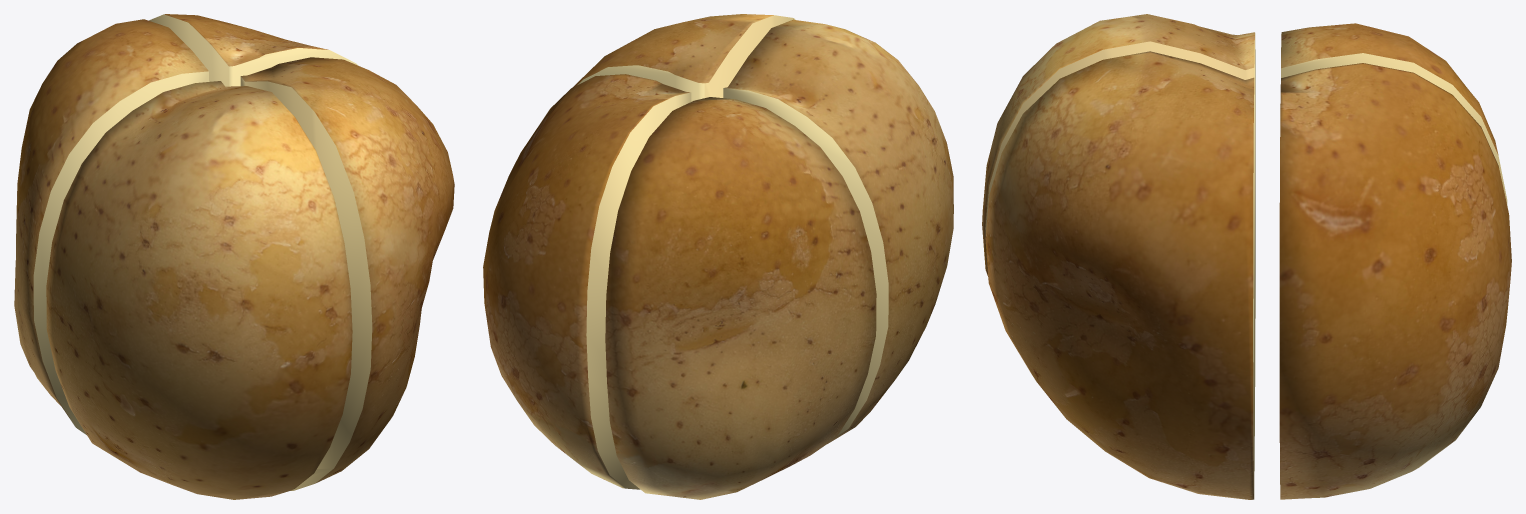
The model's file is potatoCut02.fbx.
The picture shows the model from 3 angles, left to right: view 1: azimuth 30°, elevation 25°; view 2: azimuth 150°, elevation 25°; view 3: azimuth 270°, elevation 25°; orthographic projection. The views are drawn at different scales.
Parts seen in each view (by area): view 1: potato.002, potato.001, potato.003, potato; view 2: potato.003, potato, potato.002, potato.001; view 3: potato.001, potato, potato.002, potato.003.
Boxes of the visible parts, x1,y1,x2,y2 form: potato.002: (46, 81, 352, 499); potato.001: (240, 57, 454, 490); potato.003: (14, 19, 208, 434); potato: (149, 14, 357, 86); potato.003: (605, 97, 876, 499); potato: (483, 74, 691, 489); potato.002: (723, 19, 953, 443); potato.001: (572, 14, 795, 101); potato.001: (985, 51, 1254, 499); potato: (1279, 63, 1511, 499); potato.002: (982, 14, 1255, 470); potato.003: (1281, 23, 1507, 206).
Size of the model in its own units: 196 by 211 by 233.
